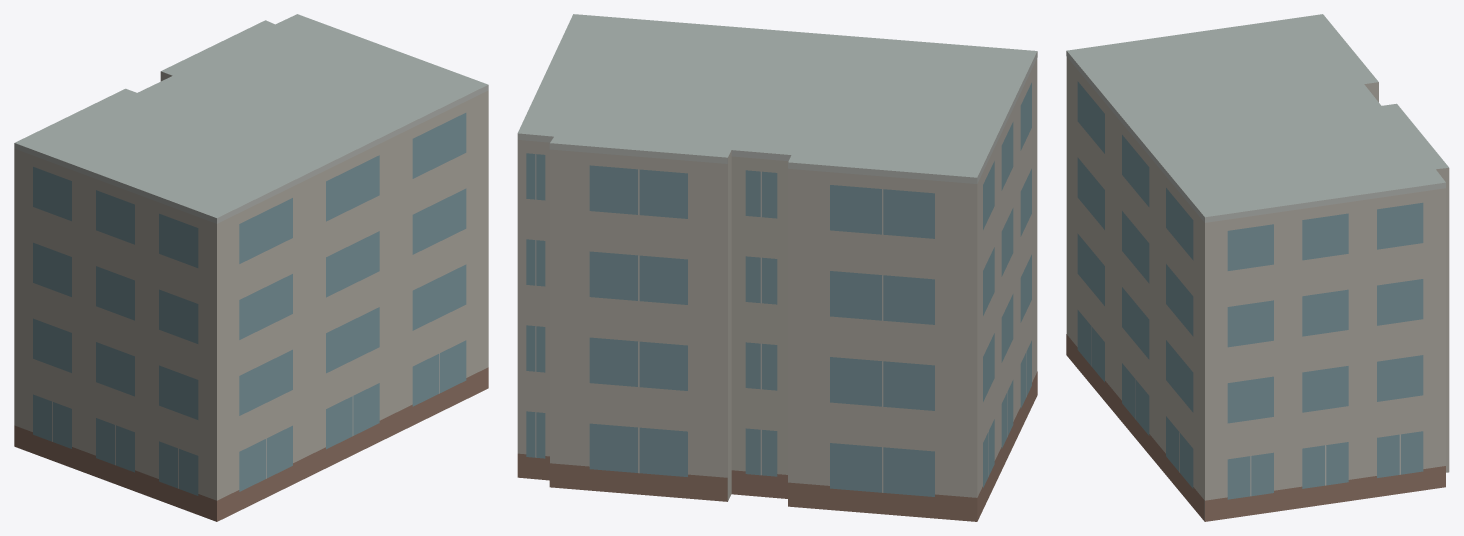
File: survey-upis-32698188.glb
The picture shows the model from 3 angles, left to right: view 1: azimuth 30°, elevation 25°; view 2: azimuth 150°, elevation 25°; view 3: azimuth 270°, elevation 25°; orthographic projection. The views are drawn at different scales.
Visible parts, largest first — view 1: survey-upis-32698188.tmp; view 2: survey-upis-32698188.tmp; view 3: survey-upis-32698188.tmp.
Part boxes in pixels (<box>): survey-upis-32698188.tmp: <box>14,14,488,521</box>; survey-upis-32698188.tmp: <box>517,14,1037,521</box>; survey-upis-32698188.tmp: <box>1066,14,1449,521</box>.
Bounding box in the file's own units: 18.83 × 13.15 × 14.99.
